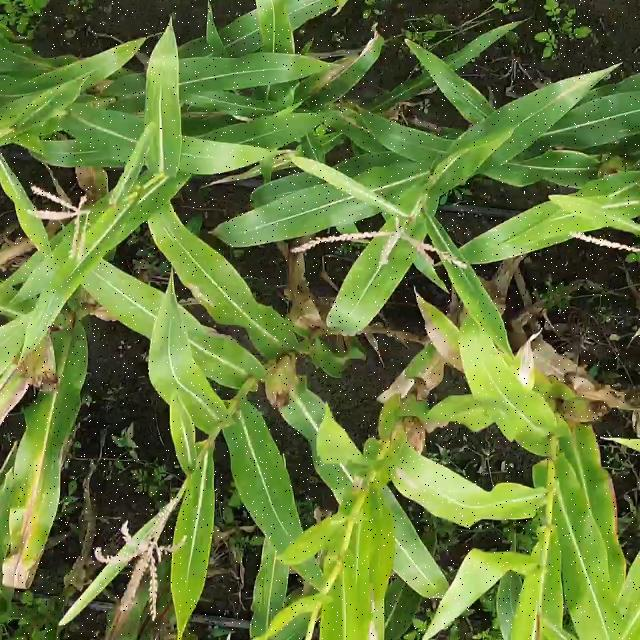northern-leaf-blight: (0, 423, 66, 579)
southern-leaf-blight: (229, 185, 373, 246), (468, 210, 574, 263)
